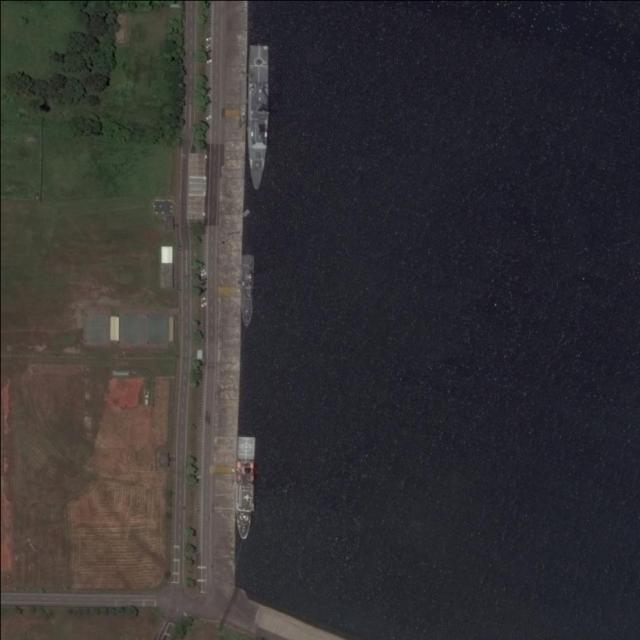Commander: (231, 434, 257, 541)
Other Warship: (248, 44, 268, 191), (242, 256, 253, 328)
